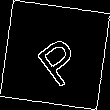P_NW: (25, 24, 85, 86)
